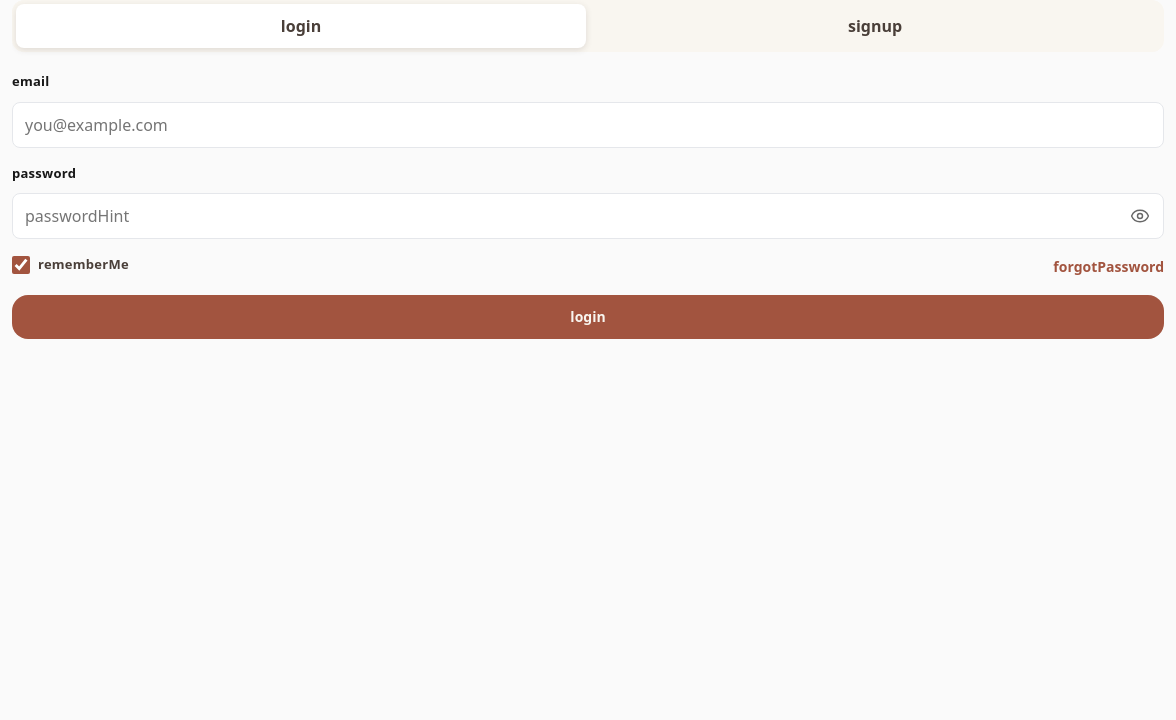
Test: AuthForm › shows password requirements and confirmation only in signup mode
The image size is (1176, 720).
expect the field labelled "confirmPassword" is not shown: met
Click the button "signup" at x=875, y=26, box [590,4,1160,48]
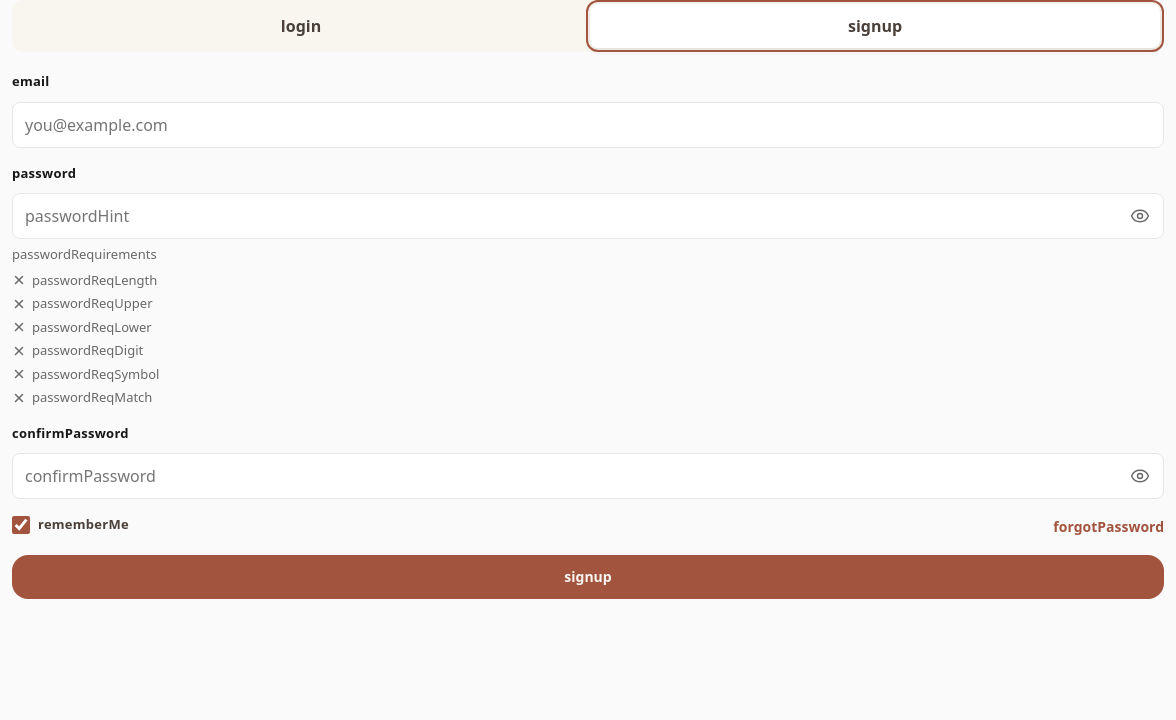
expect the text "passwordRequirements" is shown: met, box [12,245,157,263]
expect the list item "passwordReqLength" is shown: met, box [12,270,157,288]
expect the list item "passwordReqMatch" is shown: met, box [12,388,152,406]
